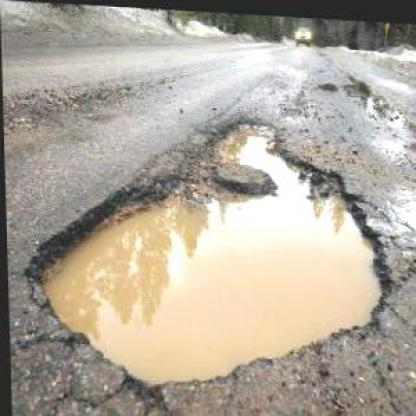pothole: (18, 101, 395, 402)
